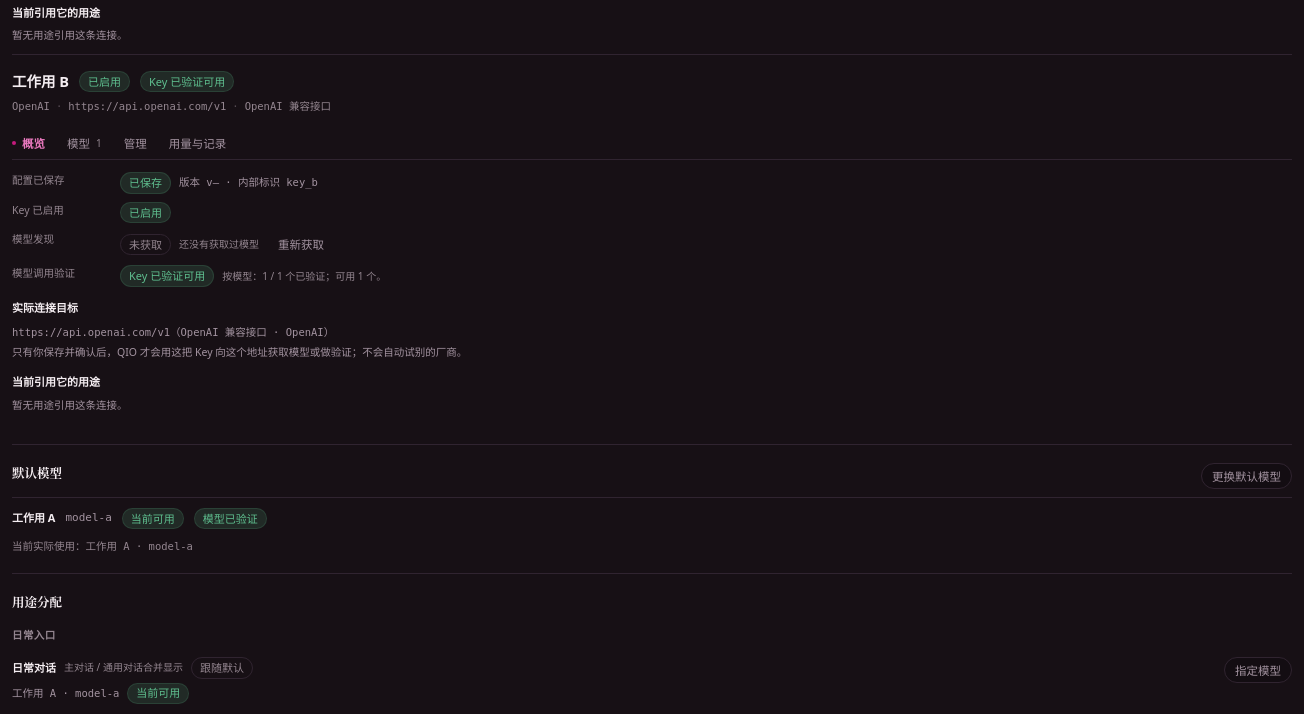
Test: 合并行保存 · 一次原子批量请求 › 迟到失败不覆盖后发请求的成功状态（seq 保护保留）
(page scrolled)
Expected: the element showing "日常对话 主对话 / 通用对话合并显示 跟随默认 工作用 A · model-a 当前可用 指定模型" is shown, [12, 647, 1292, 713]
Step 1. Click the button "指定模型" → (1258, 670), box [1224, 657, 1292, 683]
(page scrolled)
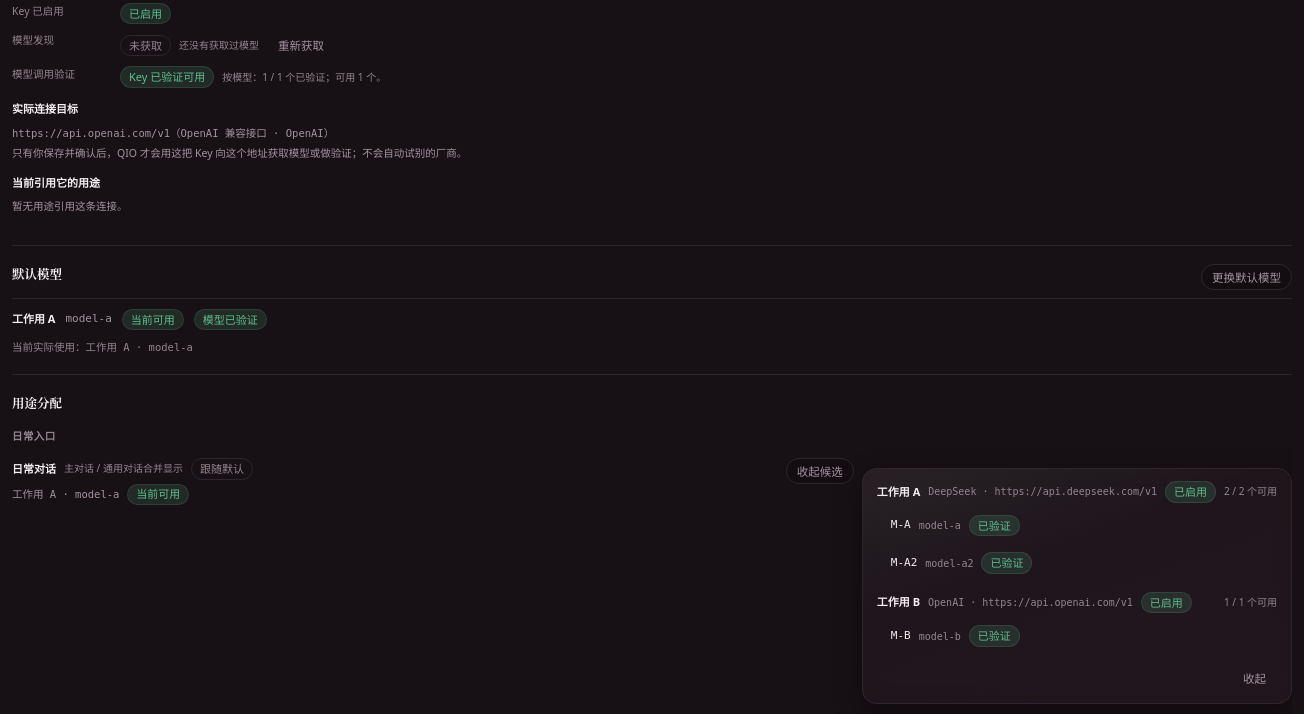
Expected: the button with class "model" showing "M-A2 model-a2 已验证" is shown
Step 2. Click the button with class "model" showing "M-A2 model-a2 已验证" → (949, 563), box [877, 544, 1277, 582]
(page scrolled)
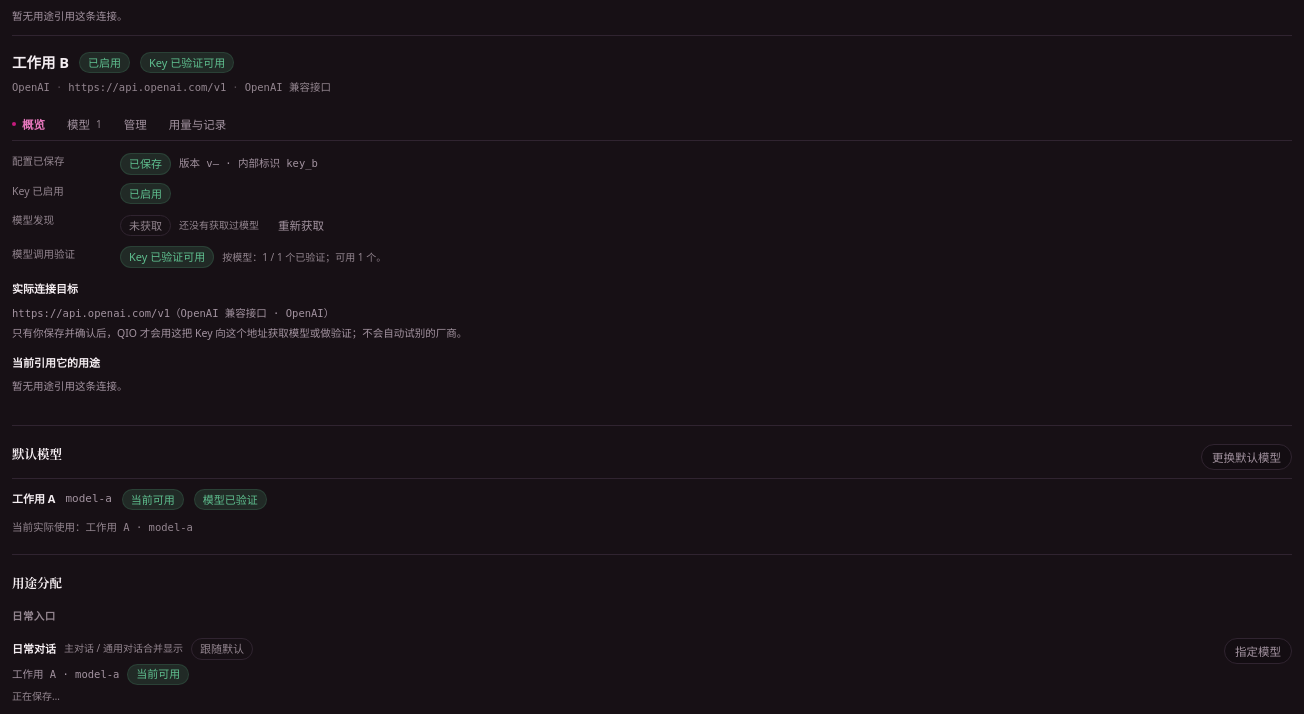
Expected: the element showing "日常对话 主对话 / 通用对话合并显示 跟随默认 工作用 A · model-a 当前可用 正在保存… 指定模型" is shown, [12, 628, 1292, 713]
Step 3. Click the button "指定模型" → (1258, 651), box [1224, 638, 1292, 664]
(page scrolled)
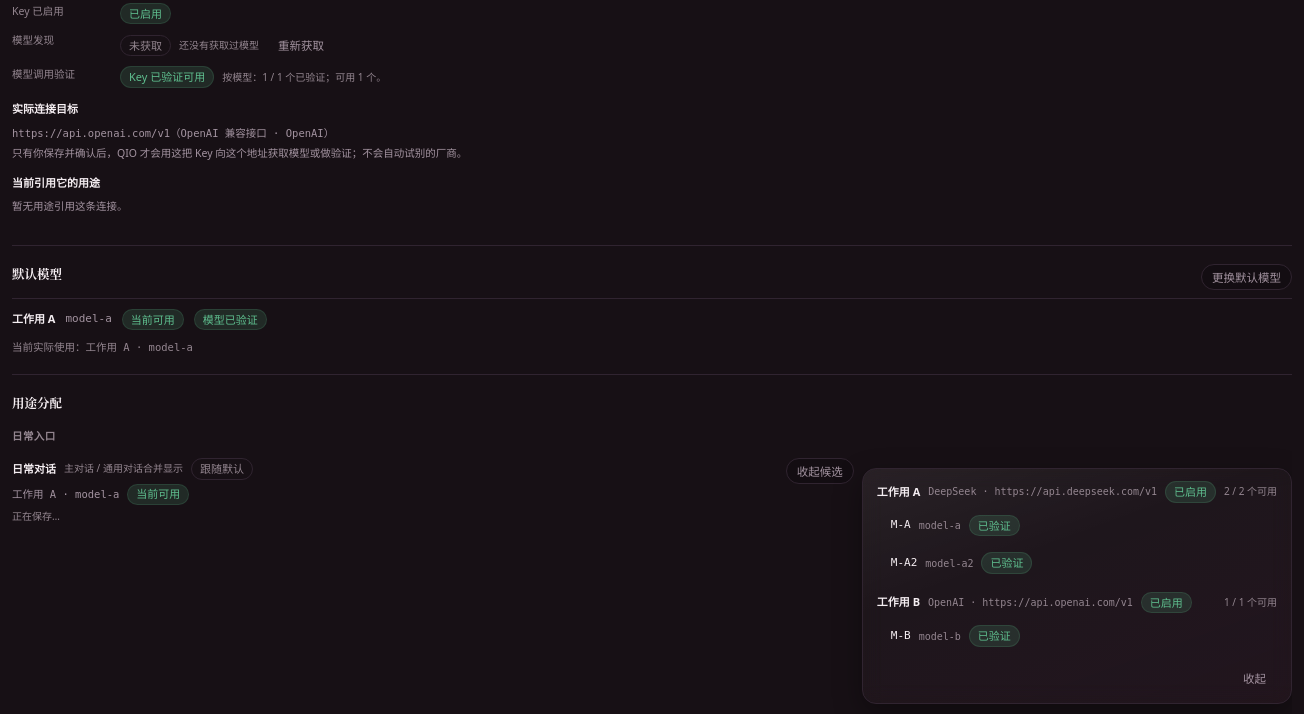
Expected: the button with class "model" showing "M-A model-a 已验证" is shown
Step 4. Click the button with class "model" showing "M-A model-a 已验证" → (940, 525), box [877, 507, 1277, 544]
(page scrolled)
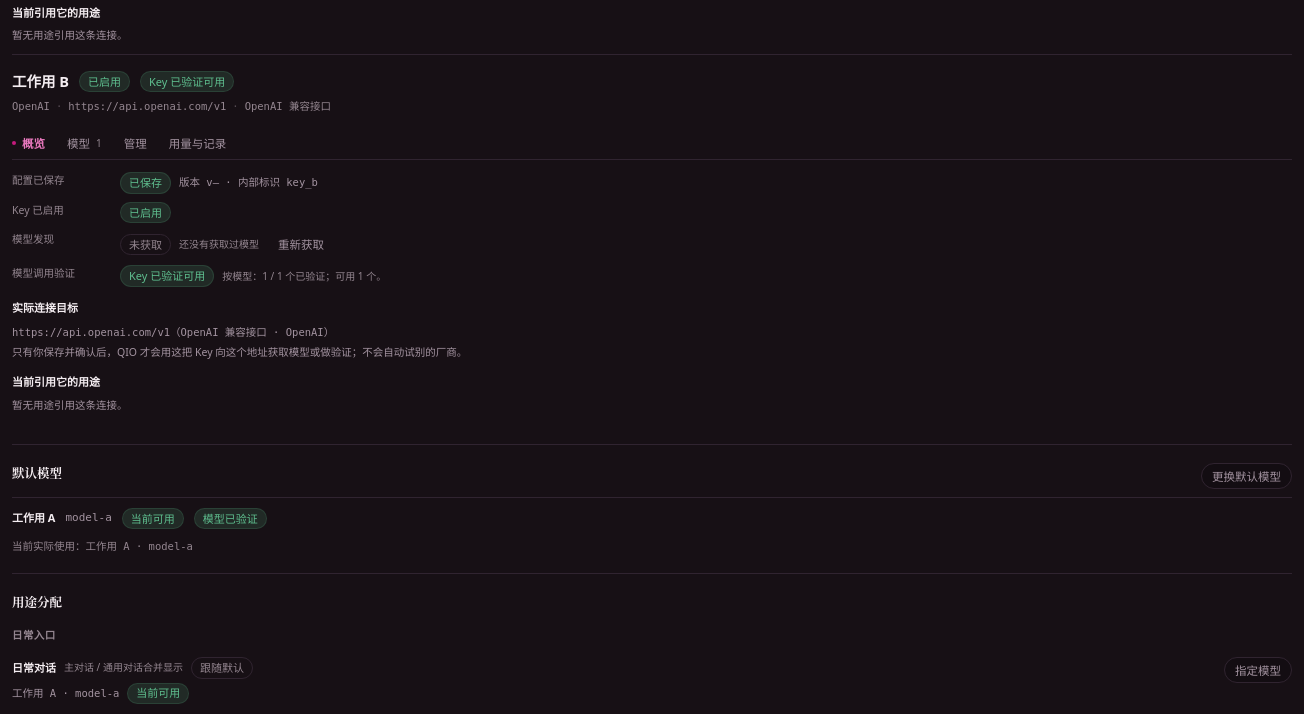
Expected: the element showing "日常对话 主对话 / 通用对话合并显示 跟随默认 工作用 A · model-a 当前可用 指定模型" is shown, [12, 647, 1292, 713]
Expected: the message "正在保存…" no longer shows "正在保存"
